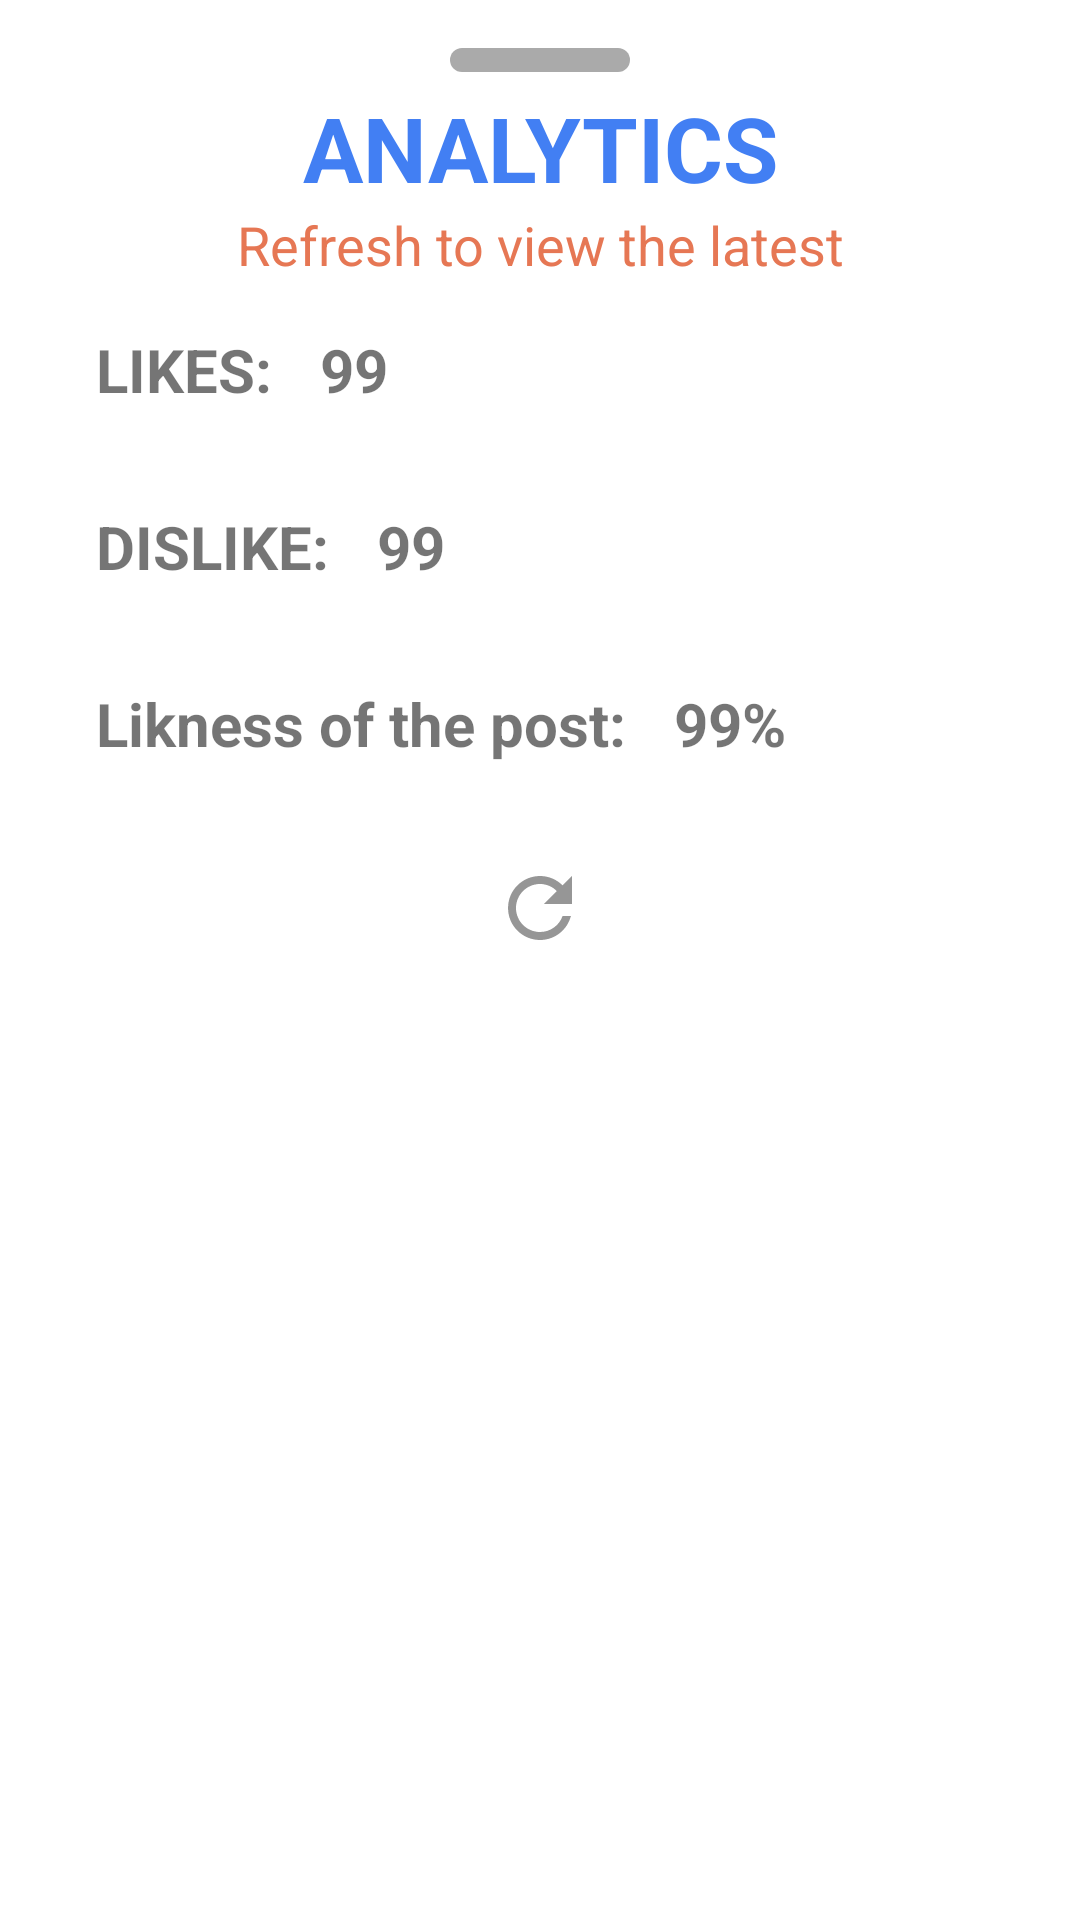

Named icons in this screenshot (1080x1920) and their bounding boxes, (x1=x1, y1=y1, x2=x2, y2=y2):
Refresh Data: (x1=508, y1=876, x2=572, y2=940)
